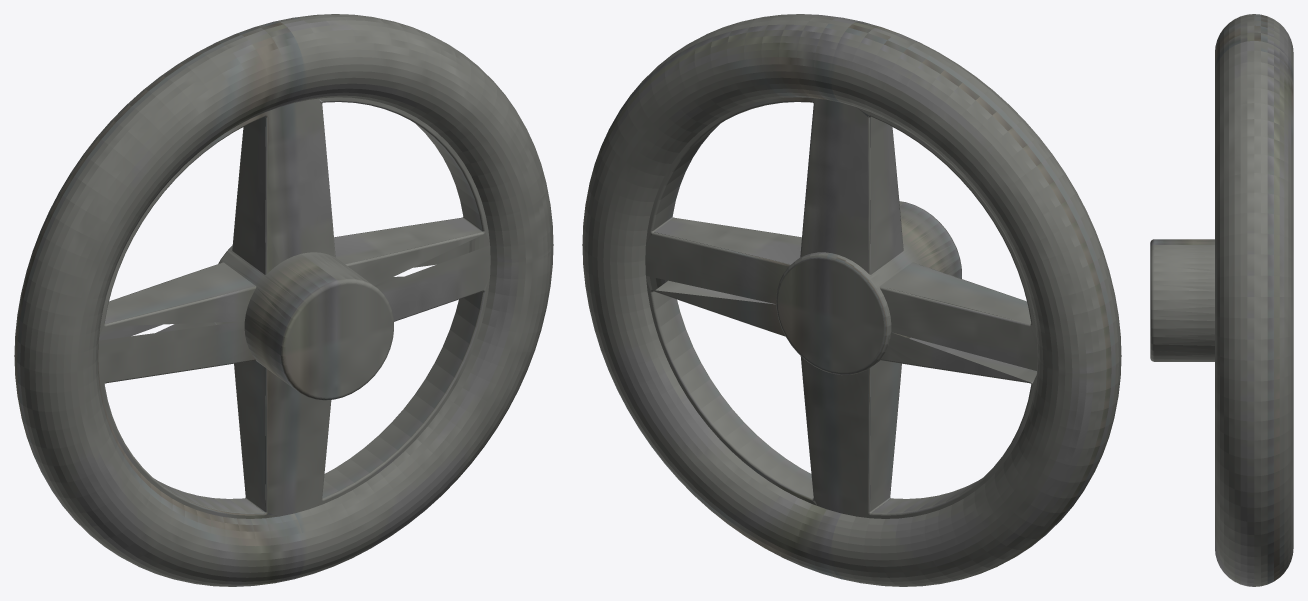
The model's file is wheel_valve_large.dae.
3 renders of one model, left to right at view 1: azimuth 30°, elevation 25°; view 2: azimuth 150°, elevation 25°; view 3: azimuth 270°, elevation 25°, orthographic. The views are drawn at different scales.
Visible parts, largest first — view 1: skpE34; view 2: skpE34; view 3: skpE34.
Boxes of the visible parts, x1,y1,x2,y2 form: skpE34: [14, 14, 553, 586]; skpE34: [582, 14, 1121, 586]; skpE34: [1150, 14, 1293, 586].
Bounding box in the file's own units: 14 × 3.5 × 14.
Materials: 1 (1 with a texture image).
